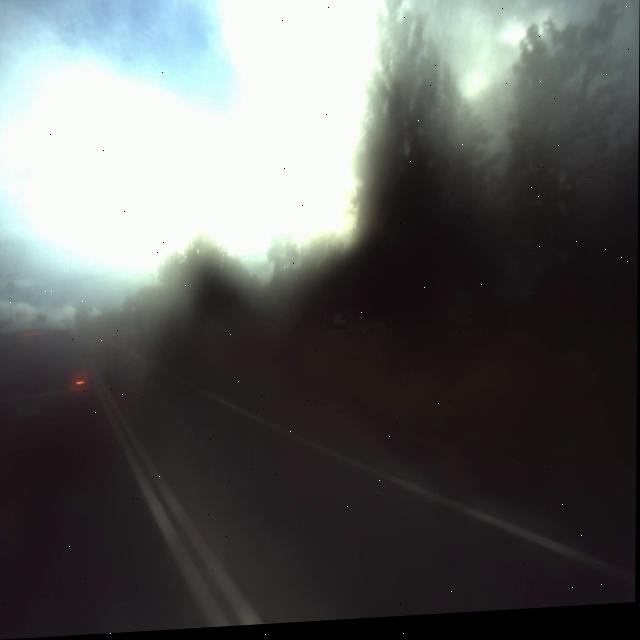car: (0, 310, 90, 471)
